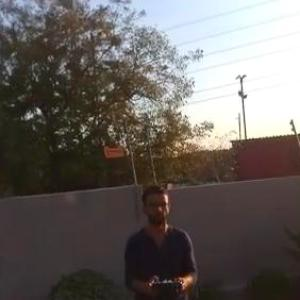follow: (116, 179, 202, 299)
